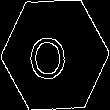O_N: (35, 29, 75, 81)
